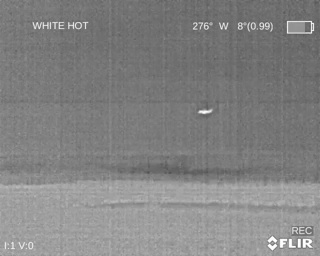AIRPLANE: (196, 106, 215, 117)
